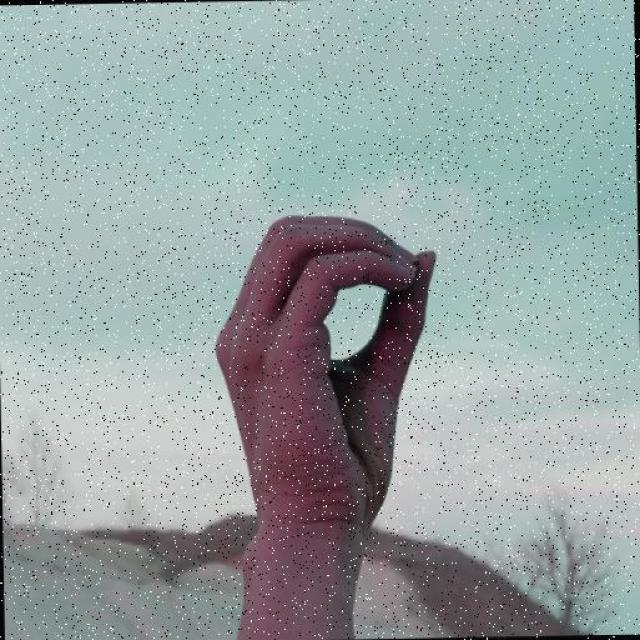O: (209, 208, 448, 530)
